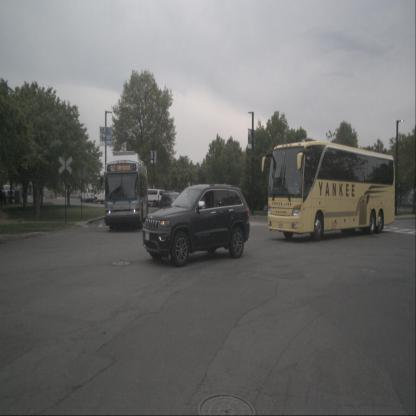vehicle-bus-rigid: (268, 141, 396, 241), (104, 151, 149, 230)
vehicle-car: (143, 183, 250, 268), (159, 192, 191, 219), (140, 189, 166, 208), (94, 188, 110, 204), (80, 187, 95, 203)
vehicle-truck: (0, 184, 15, 202)
